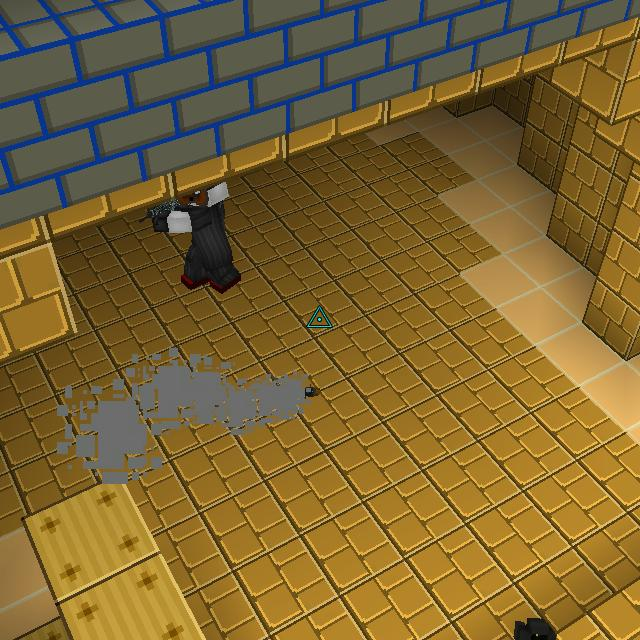enemy: (150, 179, 245, 296)
